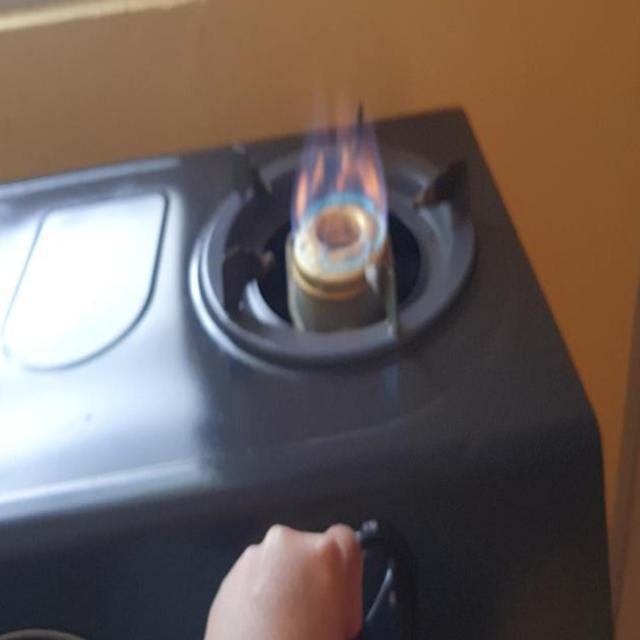smoke: (288, 74, 383, 280)
